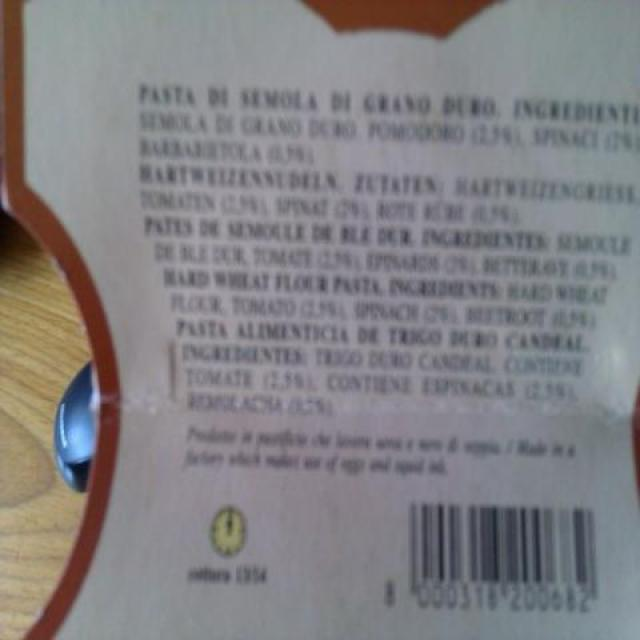Barcode: (376, 490, 616, 630)
